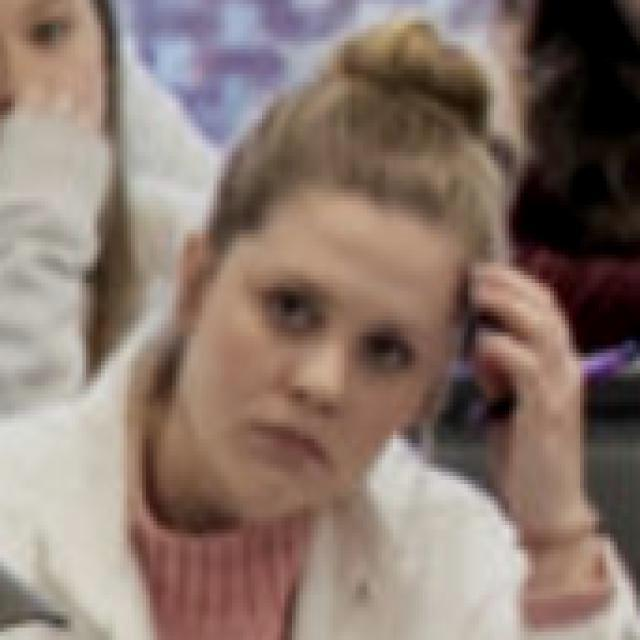Looking forward: (193, 192, 469, 518)
